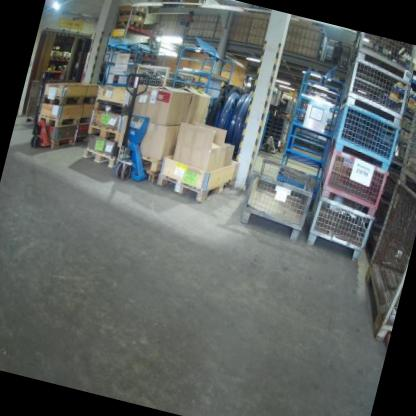pallet: (153, 158, 237, 212), (40, 82, 97, 118), (36, 104, 92, 138), (49, 128, 87, 159), (80, 145, 120, 171), (86, 121, 124, 145), (92, 96, 131, 118), (119, 7, 147, 24), (117, 16, 144, 31)
pallet_truck: (100, 61, 174, 187), (19, 64, 79, 155)
stillage: (344, 174, 416, 345), (234, 151, 319, 247), (302, 181, 383, 264), (331, 52, 416, 128), (314, 143, 395, 212), (324, 102, 403, 170), (346, 31, 416, 82), (390, 76, 416, 189), (128, 60, 187, 99)
